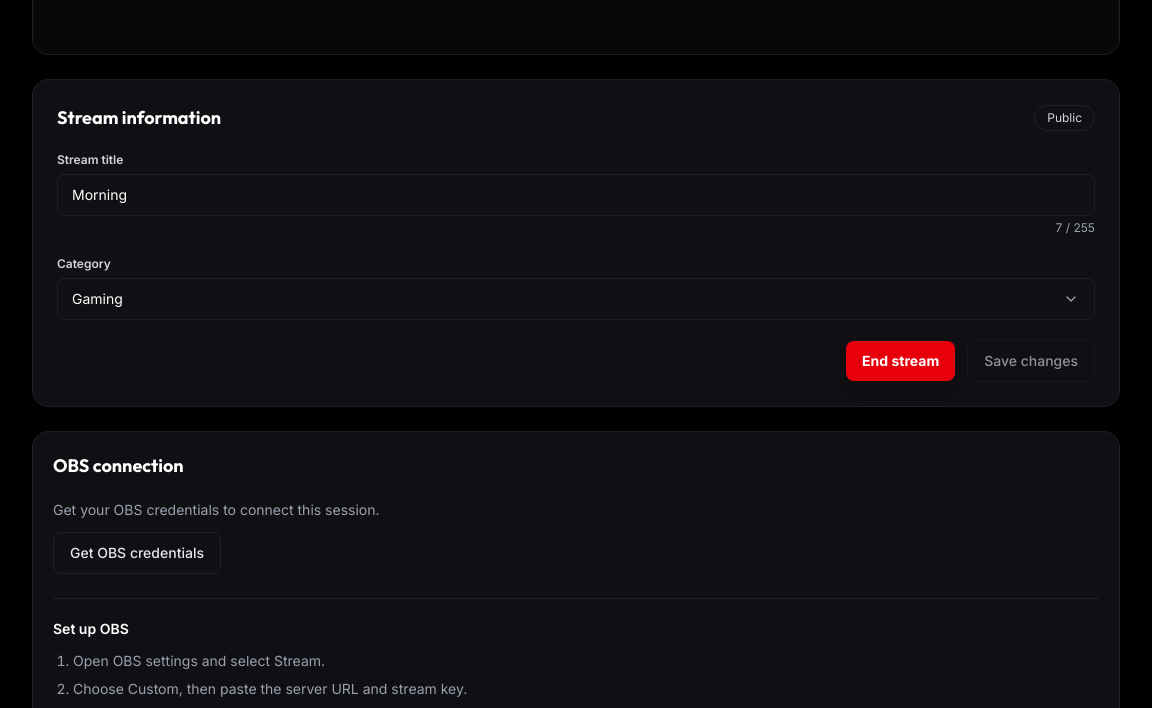
it: Stream Manager › keeps an open End dialog through a temporary metadata failure
(page scrolled)
What coordinates should you click on to do the following:
click the button "End stream"
I would click on:
 (901, 361)
Its box is [846, 341, 955, 381].
(page scrolled)
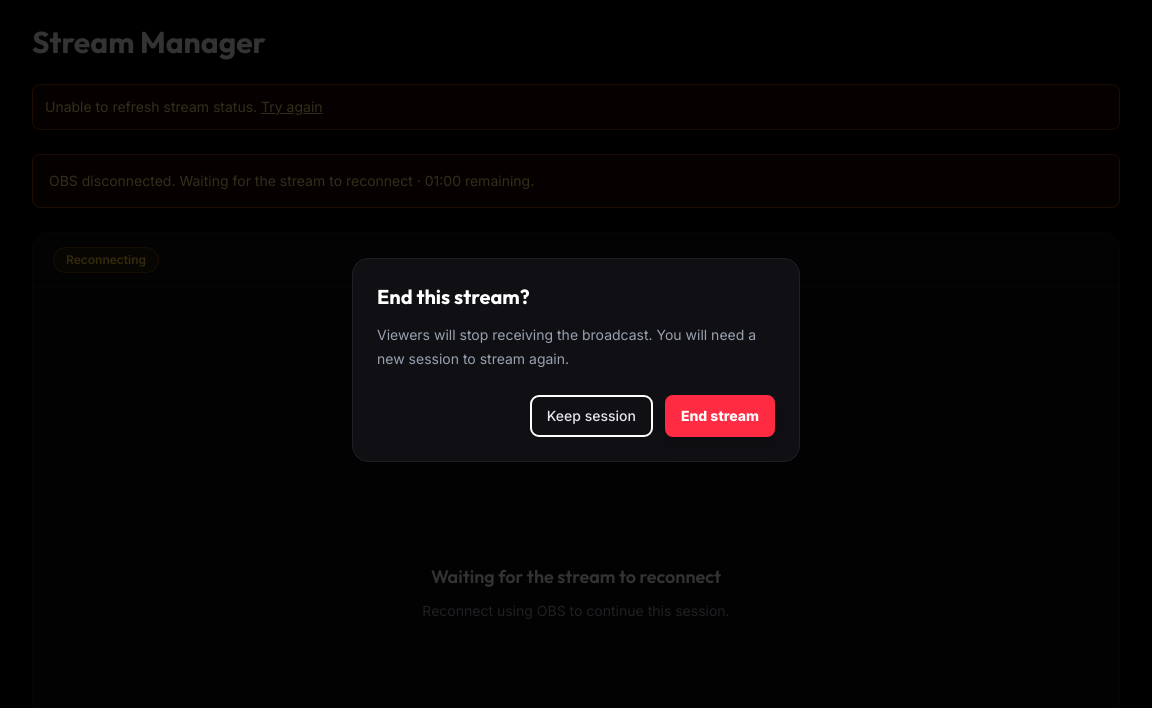
Expected: the dialog is shown, [352, 258, 800, 462]
Expected: the message "Unable to refresh stream status. Try again" is shown, [32, 84, 1120, 130]
